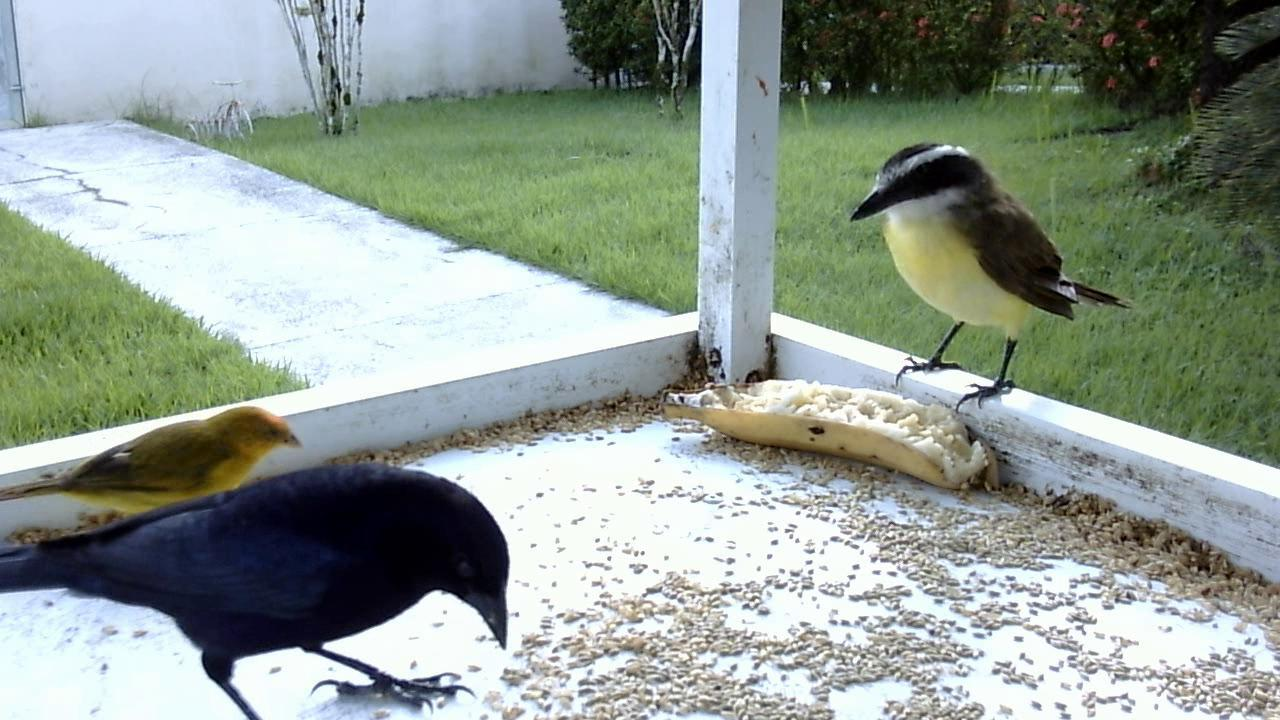bem_te_vi: (838, 129, 1133, 425)
canario_do_amazonas: (14, 398, 305, 545)
chupim: (17, 464, 512, 718)
